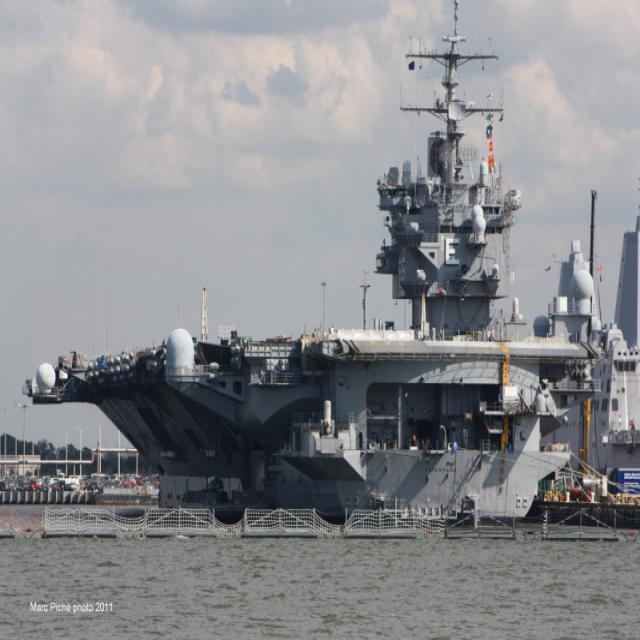Portanaves: (25, 7, 602, 507)
